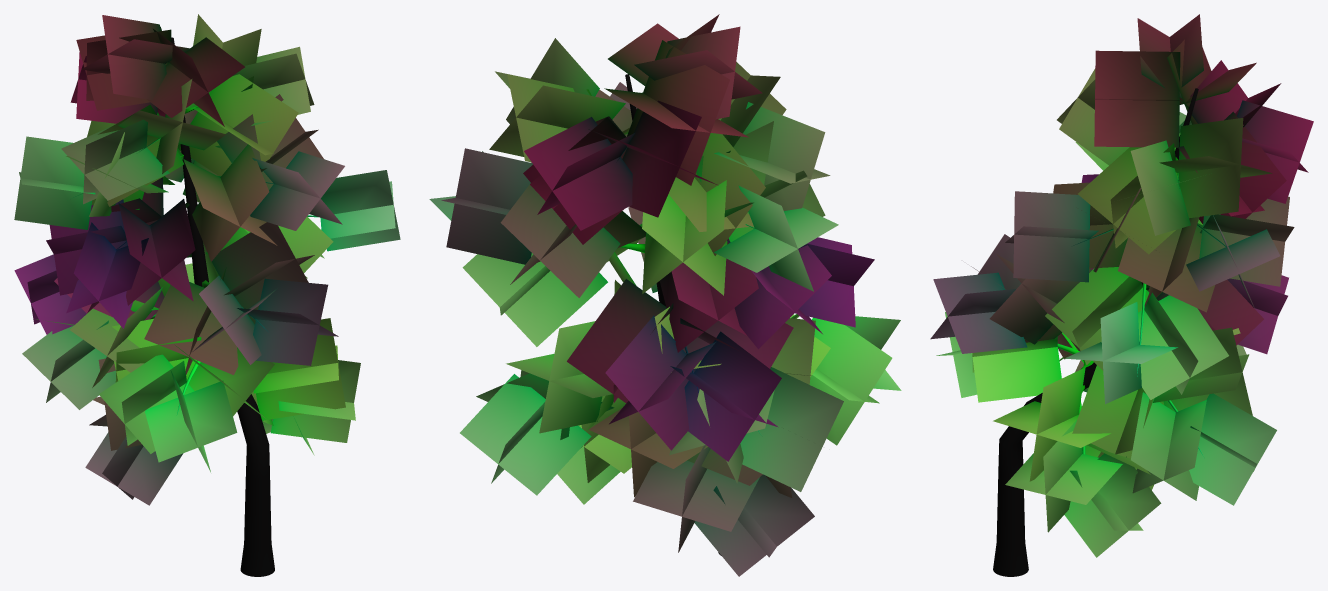
The model's file is M_P7_Tree_1.fbx.
3 renders of one model, left to right at view 1: azimuth 30°, elevation 25°; view 2: azimuth 150°, elevation 25°; view 3: azimuth 270°, elevation 25°, orthographic. The views are drawn at different scales.
Visible parts, largest first — view 1: Tree_1; view 2: Tree_1; view 3: Tree_1.
Boxes of the visible parts, x1=… form: Tree_1: x1=14, y1=14, x2=400, y2=576; Tree_1: x1=429, y1=14, x2=901, y2=576; Tree_1: x1=930, y1=14, x2=1313, y2=576.
Size of the model in its own units: 286 by 386 by 257.
